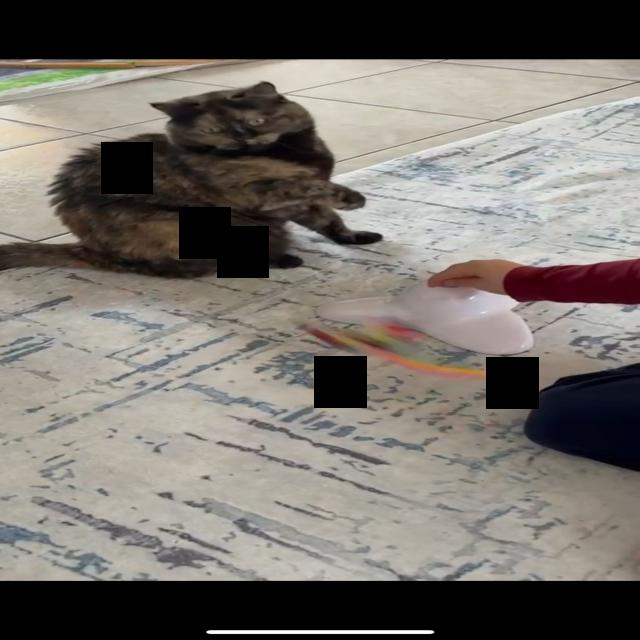authorized: (0, 80, 382, 279)
